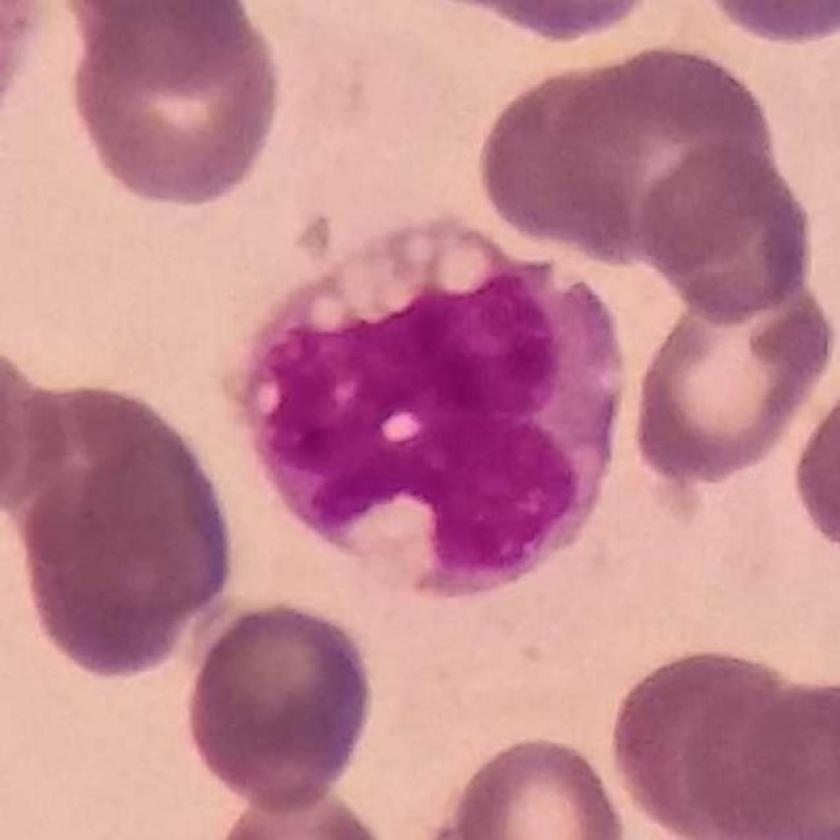monocyte: (224, 211, 635, 601)
